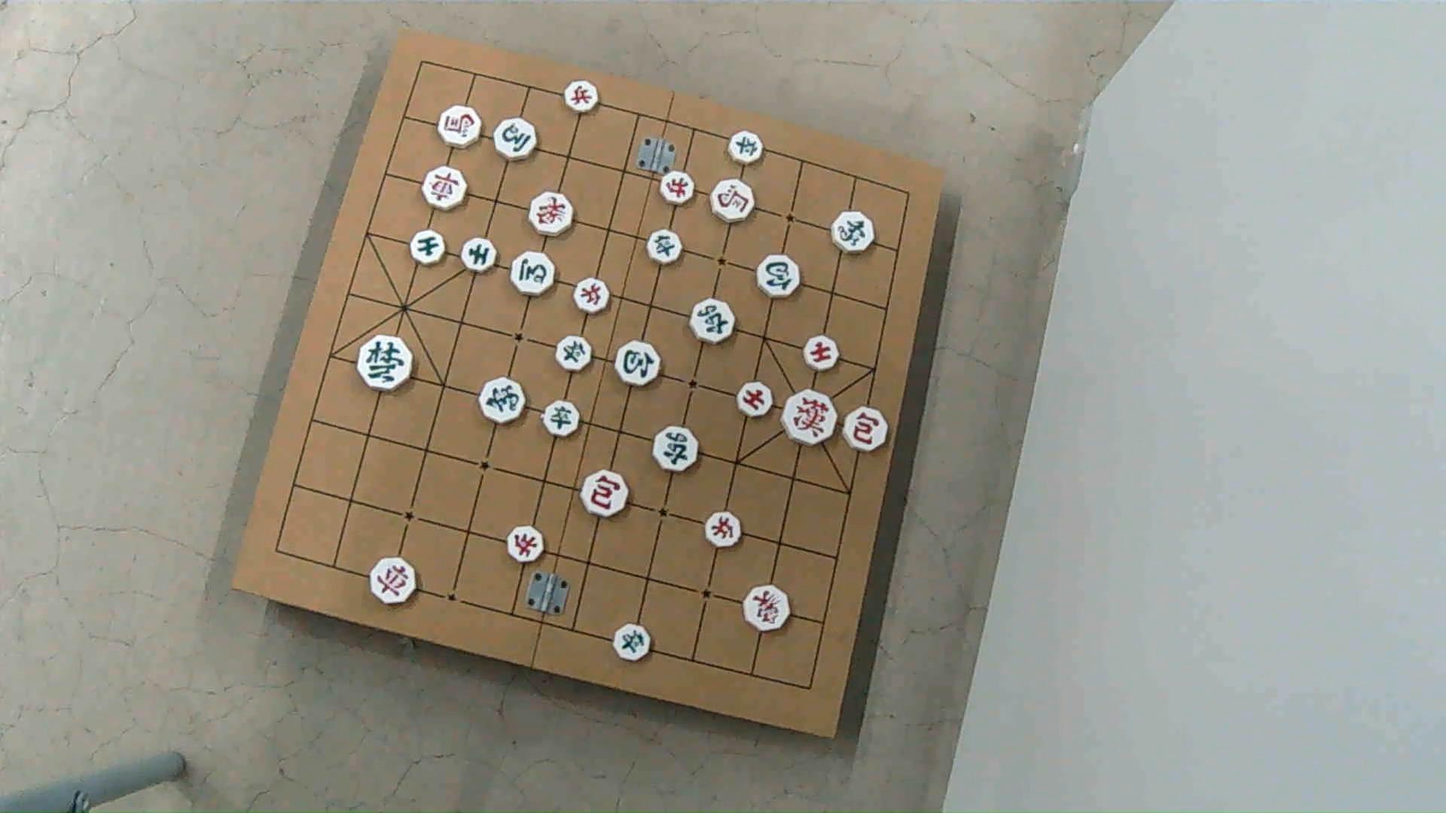cha_green: (656, 428, 701, 473), (691, 299, 736, 343)
cha_red: (371, 559, 417, 604), (420, 166, 464, 210)
jol_green: (615, 624, 653, 662), (556, 336, 592, 371), (545, 400, 580, 436), (645, 228, 680, 263), (728, 130, 762, 163)
jol_red: (504, 526, 542, 563), (707, 510, 743, 547), (573, 279, 609, 315), (566, 81, 599, 114), (659, 171, 692, 204)
ma_green: (509, 253, 553, 297), (493, 119, 535, 160)
ma_red: (436, 107, 480, 148), (711, 181, 753, 223)
po_green: (616, 341, 661, 385), (761, 256, 804, 299)
po_red: (583, 470, 630, 518), (838, 409, 884, 452)
sa_green: (462, 239, 497, 273), (408, 229, 443, 263)
sa_red: (739, 381, 774, 417), (804, 336, 838, 371)
sang_green: (480, 379, 525, 425), (830, 215, 873, 256)
sang_red: (747, 587, 792, 632), (529, 194, 574, 238)
wang_green: (360, 336, 413, 391)
wang_red: (785, 389, 839, 444)
